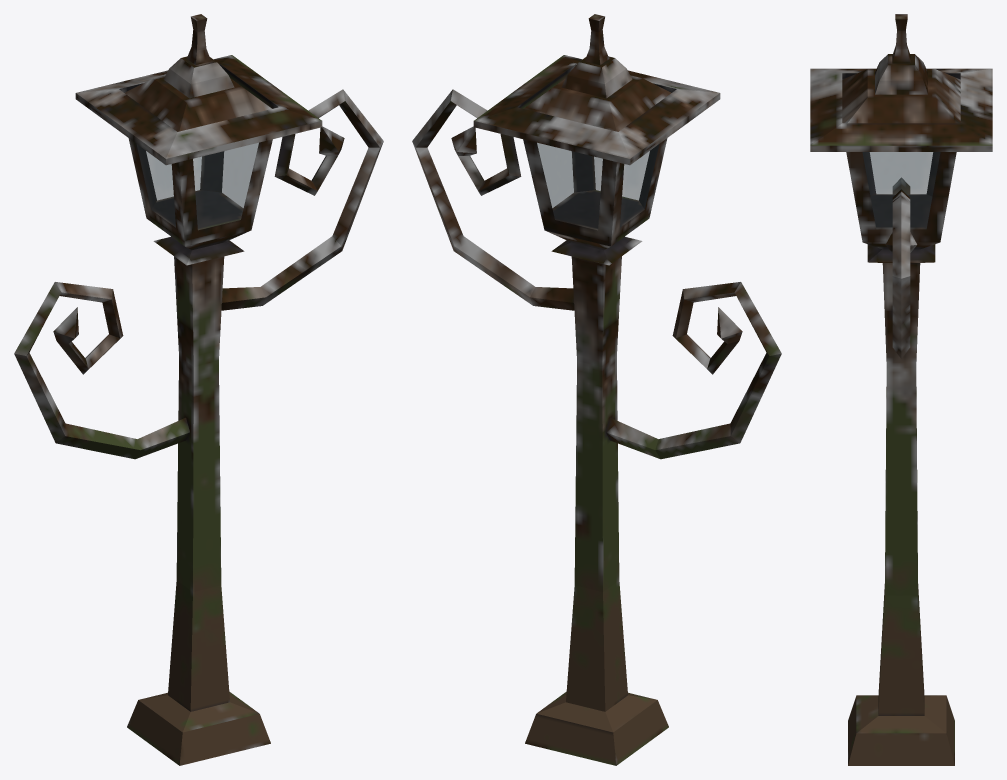
File: Light.fbx
3 views of the same model, side by side, from view 1: azimuth 30°, elevation 25°; view 2: azimuth 150°, elevation 25°; view 3: azimuth 270°, elevation 25° (orthographic).
Parts seen in each view (by area): view 1: Light; view 2: Light; view 3: Light.
Part boxes in pixels (left/top/right/bottom): Light: left=14, top=14, right=383, bottom=765; Light: left=412, top=14, right=781, bottom=765; Light: left=810, top=14, right=992, bottom=765.
Size of the model in its own units: 163 by 303 by 68.93.
Materials: 2 (2 with a texture image).
